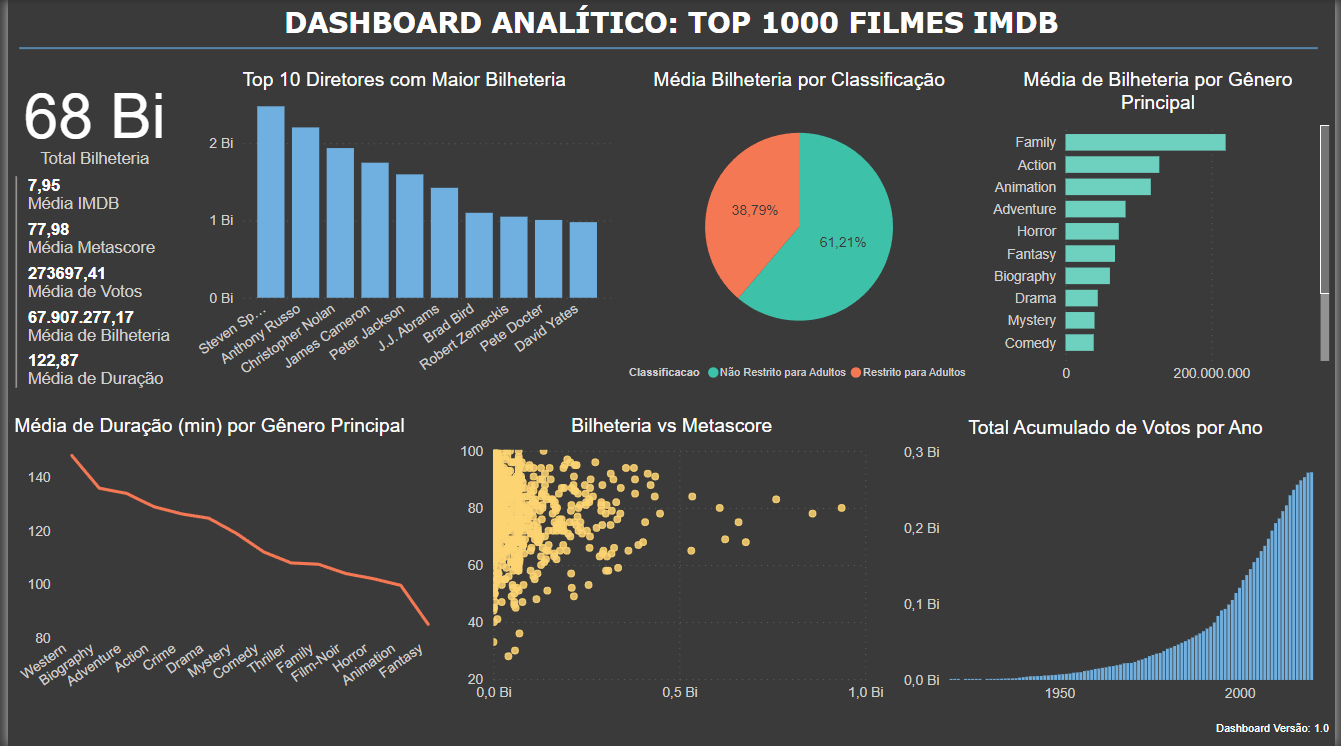

Layout of this report page (visuals, bound fields, positions):
{"tool":"powerbi","page":{"name":"Página 1","canvas":[1280,720],"ordinal":0},"visuals":[{"type":"columnChart","title":"Total Acumulado de Votos por Ano","fields":{"Category":["project imdb.Released_Year"],"Y":["project imdb.Total acumulado de Votos por Ano"]},"box":[858.9,401.4,419.7,284.6],"z":0},{"type":"multiRowCard","fields":{"Values":["project imdb.IMDB_Rating","project imdb.Meta_score","project imdb.No_of_Votes","project imdb.Gross","project imdb.Runtime"]},"box":[2.4,165.2,162.8,217.1],"z":1000},{"type":"clusteredBarChart","title":"Média de Bilheteria por Gênero Principal","fields":{"Category":["project imdb.Genre.1"],"Y":["project imdb.Gross"]},"box":[939.5,66.3,340.1,311.2],"z":2000},{"type":"scatterChart","title":"Bilheteria vs Metascore","fields":{"X":["project imdb.Gross"],"Y":["project imdb.Meta_score"]},"box":[430.1,400.9,419.7,285],"z":3000},{"type":"clusteredColumnChart","title":"Top 10 Diretores com Maior Bilheteria","fields":{"Category":["project imdb.Director"],"Y":["project imdb.Gross"]},"box":[177.3,65.8,410.1,311.2],"z":4000},{"type":"pieChart","title":"Média Bilheteria por Classificação","fields":{"Y":["project imdb.Gross"],"Category":["project imdb.Classificacao"]},"box":[593.4,65.8,340.1,311.2],"z":5000},{"type":"lineChart","title":"Média de Duração (min) por Gênero Principal","fields":{"Y":["project imdb.Runtime"],"Category":["project imdb.Genre.1"]},"box":[1,400.9,420,285],"z":6000},{"type":"textbox","box":[0,0,1279.6,47],"z":7000},{"type":"card","fields":{"Values":["project imdb.Gross"]},"box":[2.4,66.3,162.8,98.9],"z":8000},{"type":"shape","box":[10.9,26.5,1253.1,39.8],"z":9000},{"type":"textbox","box":[1137.3,689.8,142.3,30.2],"z":9001}]}

Visuals, with their boxes in screenshot pixels (x1, y1, x2, y2), scaled from the page's 1280x720 canvas onto the 1341x746 screenshot:
"Total Acumulado de Votos por Ano" columnChart: (left=900, top=416, right=1340, bottom=711)
multiRowCard - project imdb.IMDB_Rating x project imdb.Meta_score: (left=3, top=171, right=173, bottom=396)
"Média de Bilheteria por Gênero Principal" clusteredBarChart: (left=984, top=69, right=1340, bottom=391)
"Bilheteria vs Metascore" scatterChart: (left=451, top=415, right=890, bottom=711)
"Top 10 Diretores com Maior Bilheteria" clusteredColumnChart: (left=186, top=68, right=615, bottom=391)
"Média Bilheteria por Classificação" pieChart: (left=622, top=68, right=978, bottom=391)
"Média de Duração (min) por Gênero Principal" lineChart: (left=1, top=415, right=441, bottom=711)
textbox: (left=0, top=0, right=1340, bottom=49)
card - project imdb.Gross: (left=3, top=69, right=173, bottom=171)
shape: (left=11, top=27, right=1324, bottom=69)
textbox: (left=1191, top=715, right=1340, bottom=745)
